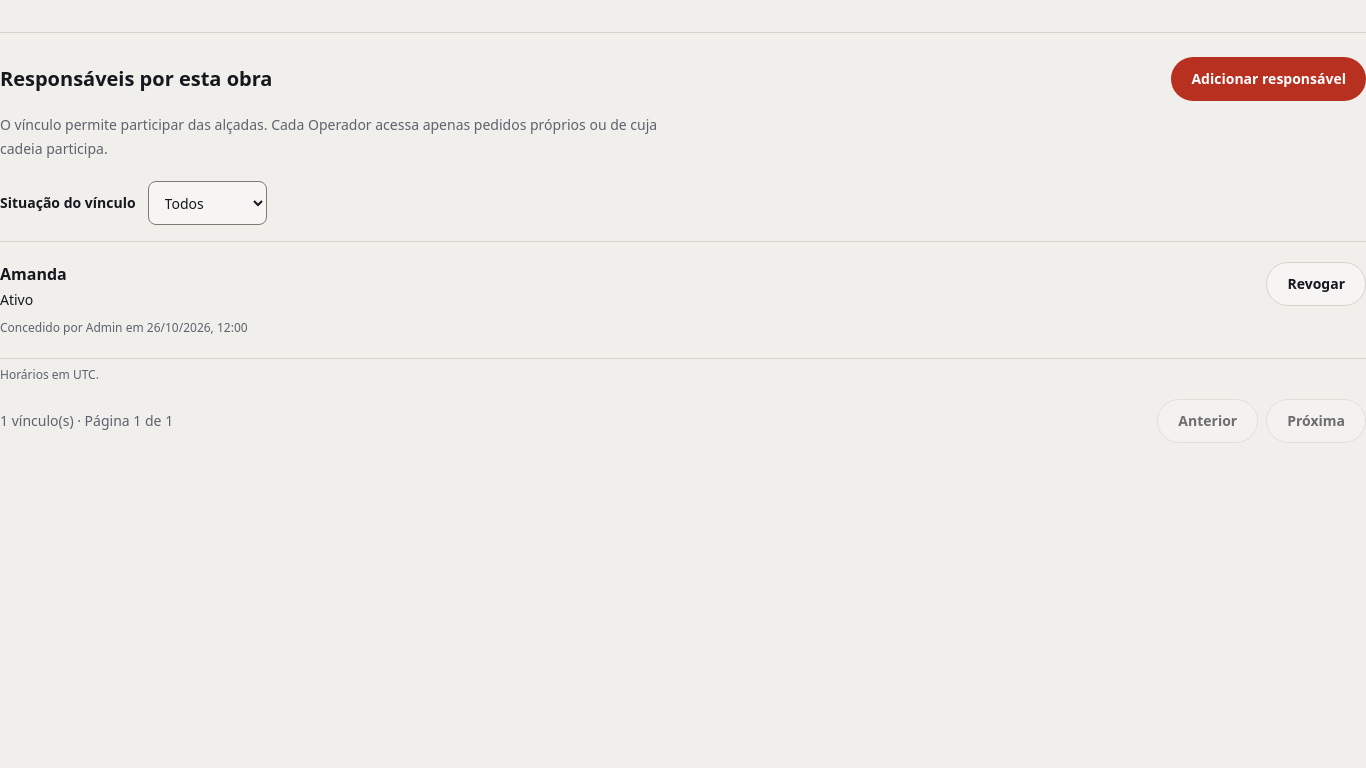
it: keeps link and confirmation on conflict, showing complete counts and bounded IDs without invented names
Click the button with aria-label "Revogar Amanda".
click(1316, 284)  # box [1266,262,1365,306]
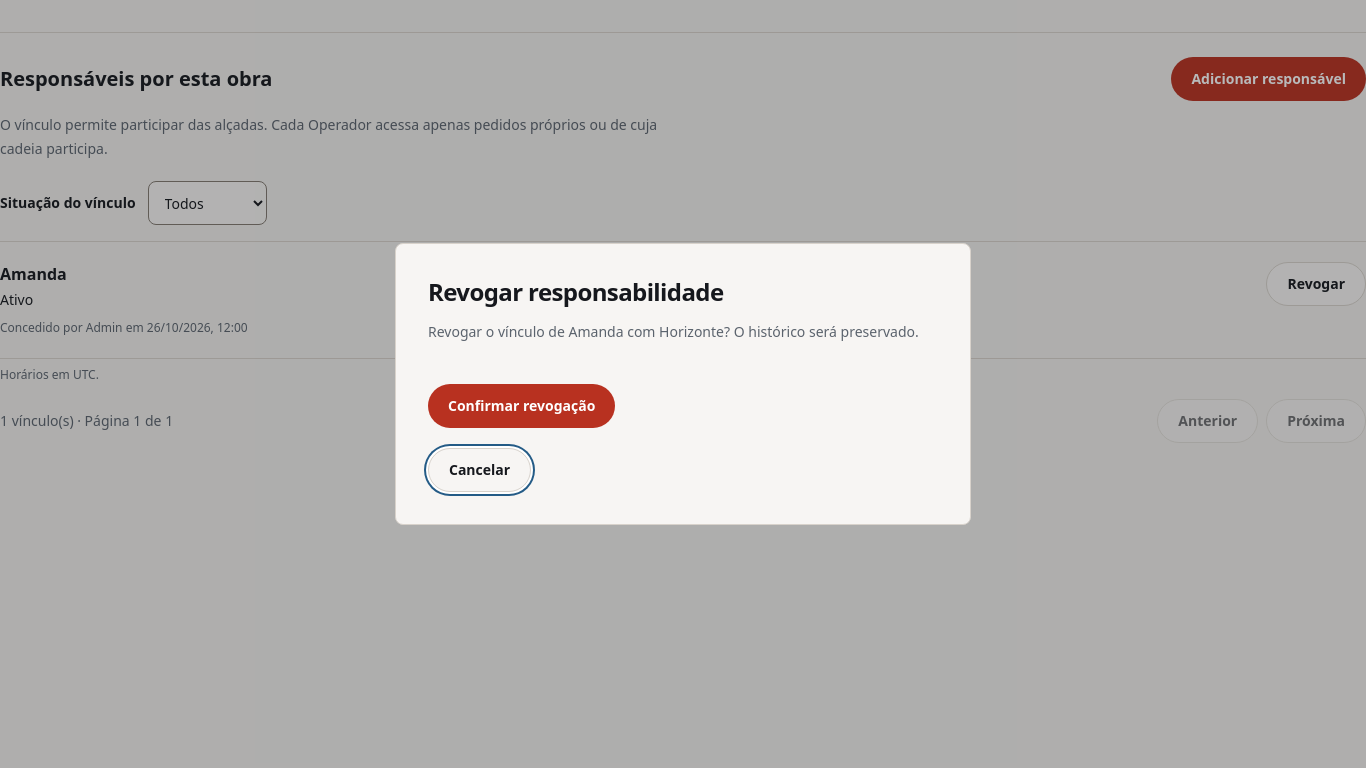
Click the button "Confirmar revogação".
click(522, 406)  # box [428,384,615,428]
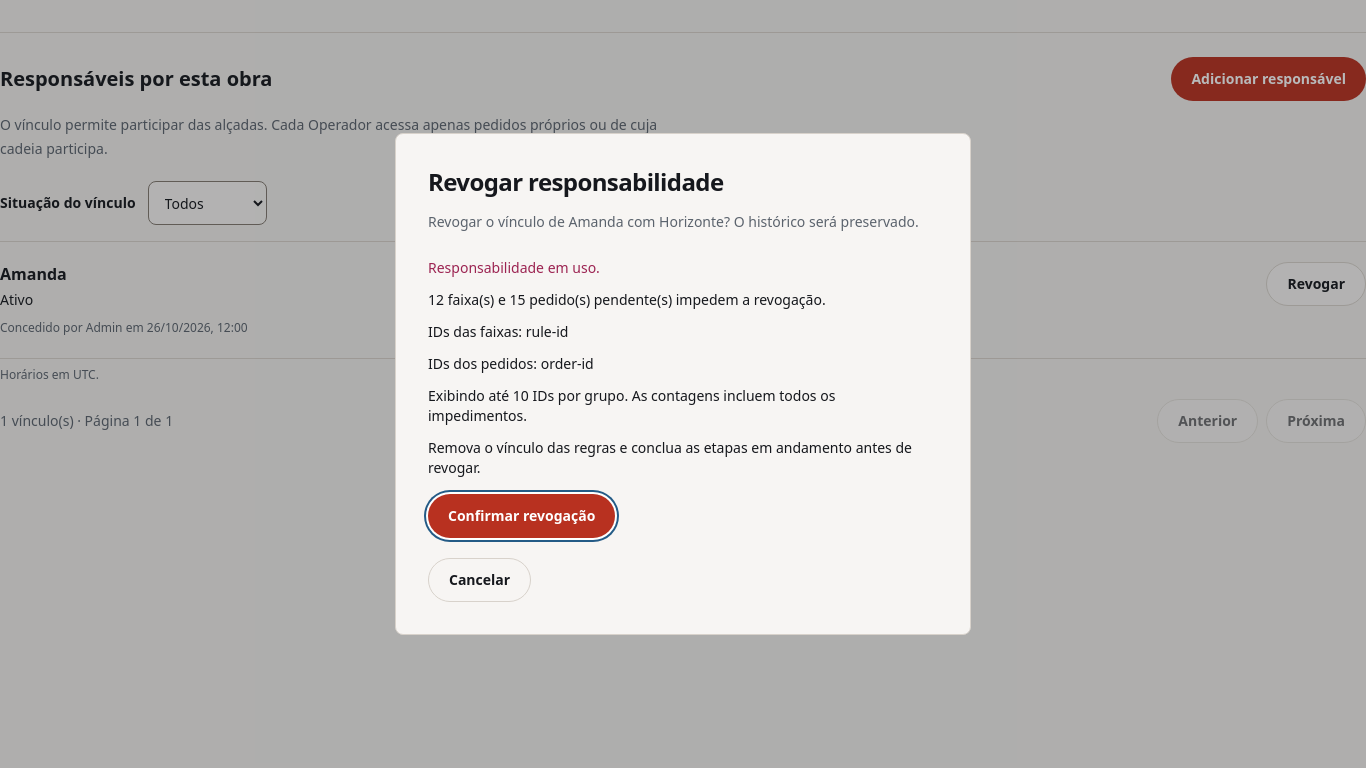
Result: the message shows "12 faixa(s) e 15 pedido(s)" at [428,258,938,478]
Result: the message shows "IDs das faixas: rule-id" at [428,258,938,478]
Result: the message shows "IDs dos pedidos: order-id" at [428,258,938,478]
